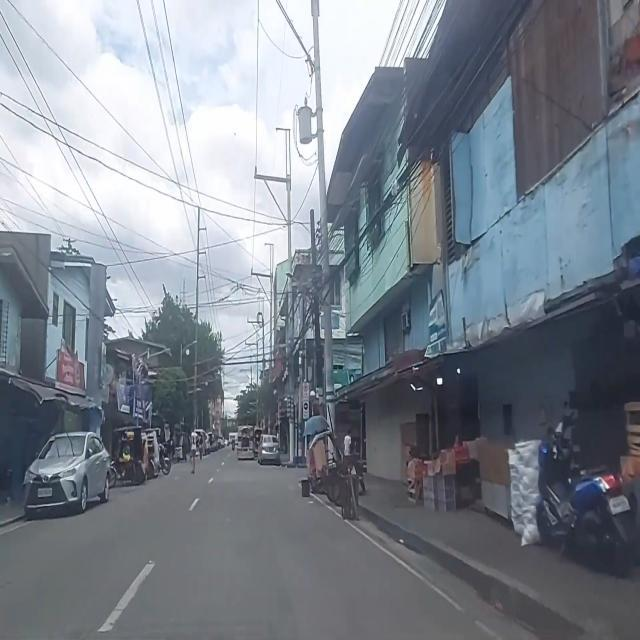car: (24, 431, 110, 519), (258, 434, 280, 464)
jeepney: (237, 424, 254, 462), (195, 429, 207, 456), (254, 428, 262, 459), (208, 433, 218, 451)
motorcycle: (536, 400, 636, 578), (158, 440, 174, 476), (232, 438, 235, 450)
tricycle: (110, 426, 146, 489), (142, 428, 161, 480), (174, 432, 188, 464)
